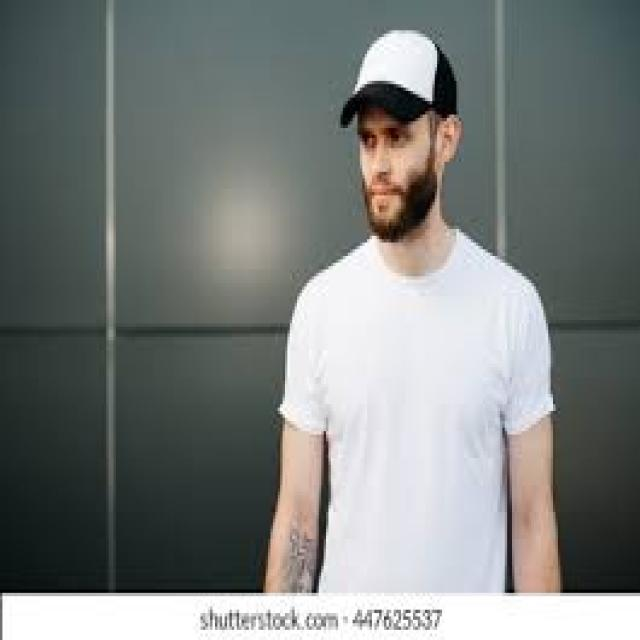cap: (338, 24, 464, 239)
